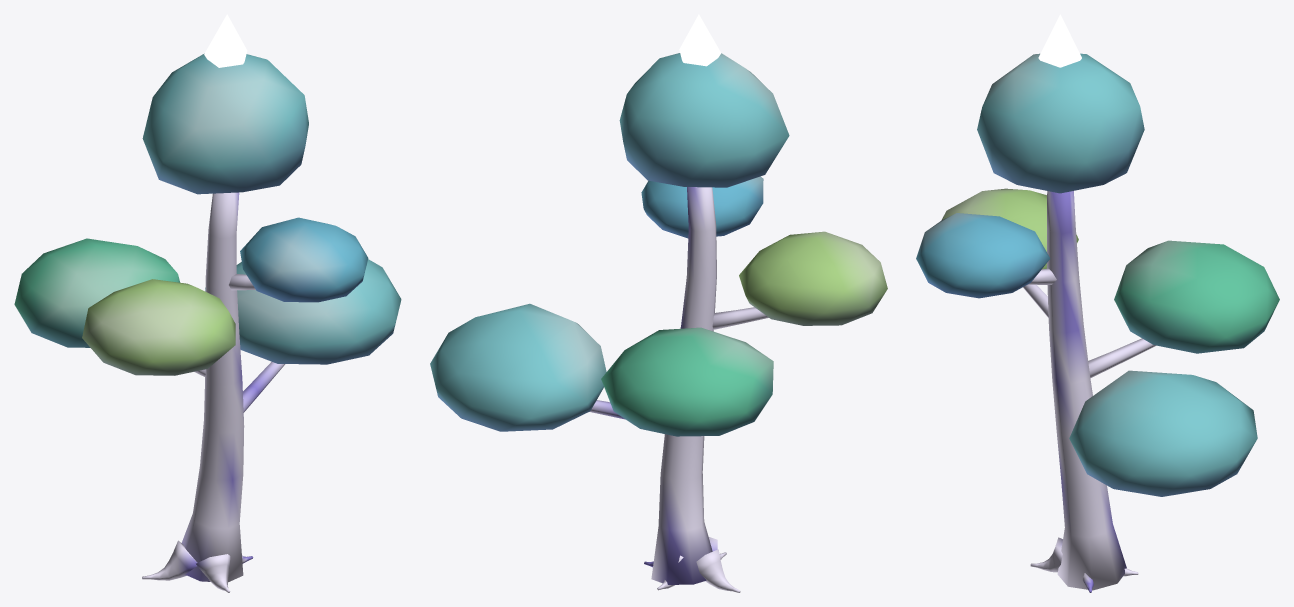
File: verdant_tree_glassbirch_b.glb
3 renders of one model, left to right at view 1: azimuth 30°, elevation 25°; view 2: azimuth 150°, elevation 25°; view 3: azimuth 270°, elevation 25°, orthographic. The views are drawn at different scales.
Parts seen in each view (by area): view 1: verdant_tree_glassbirch_b; view 2: verdant_tree_glassbirch_b; view 3: verdant_tree_glassbirch_b.
Boxes of the visible parts, x1=… form: verdant_tree_glassbirch_b: x1=14, y1=14, x2=401, y2=592; verdant_tree_glassbirch_b: x1=430, y1=14, x2=887, y2=592; verdant_tree_glassbirch_b: x1=916, y1=14, x2=1279, y2=592.
Bounding box in the file's own units: 6.85 × 10.03 × 5.88.
